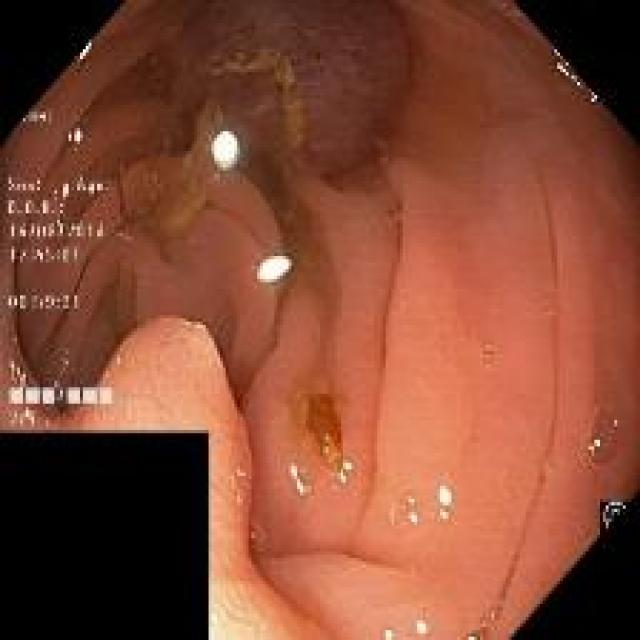Polyps: (55, 319, 328, 640)
